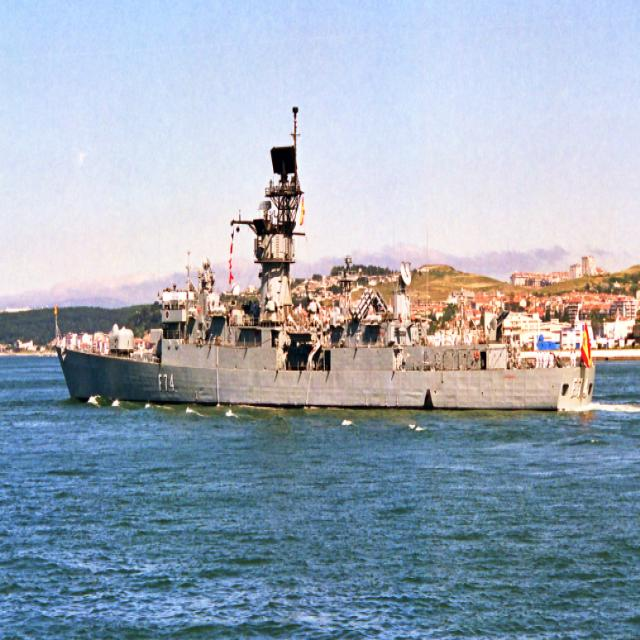Fragata: (51, 100, 599, 422)
